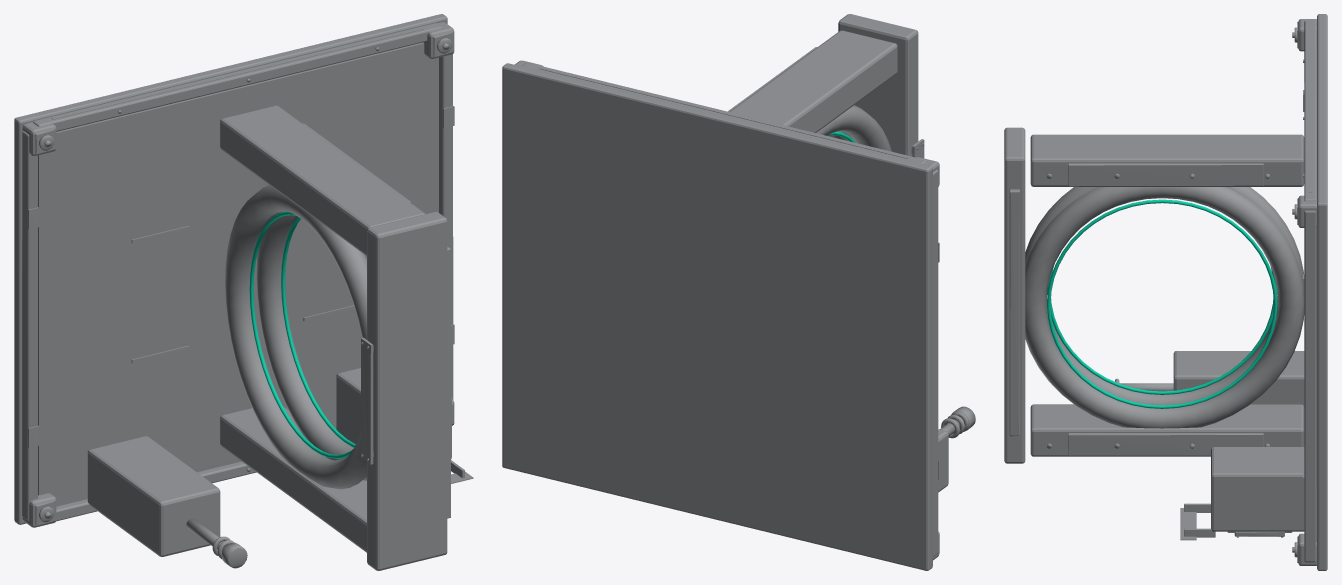
The model's file is SM_TeleporterTravelHub_LOD1.obj.
The picture shows the model from 3 angles, left to right: view 1: azimuth 30°, elevation 25°; view 2: azimuth 150°, elevation 25°; view 3: azimuth 270°, elevation 25°; orthographic projection. The views are drawn at different scales.
Parts seen in each view (by area): view 1: SM_TeleporterTravelHub.001; view 2: SM_TeleporterTravelHub.001; view 3: SM_TeleporterTravelHub.001.
Boxes of the visible parts, box(x1,y1,x2,y2) form: SM_TeleporterTravelHub.001: box(14, 14, 473, 570); SM_TeleporterTravelHub.001: box(502, 14, 975, 570); SM_TeleporterTravelHub.001: box(1004, 14, 1327, 570).
Bounding box in the file's own units: 600 × 540 × 430.
